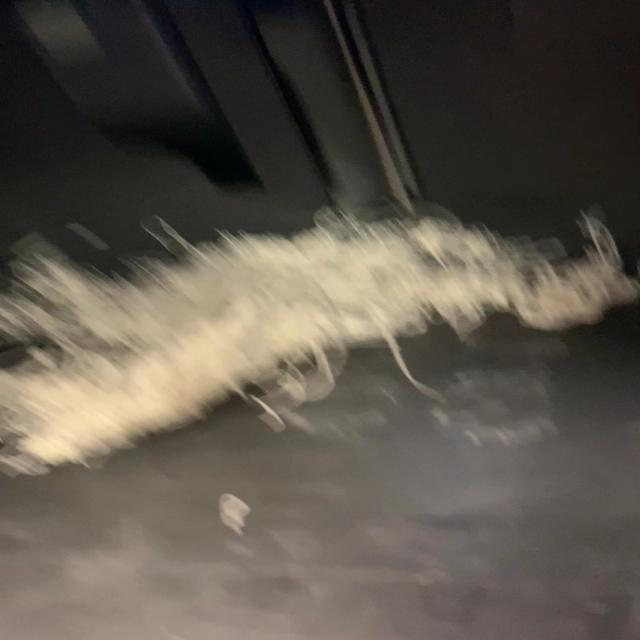spaghetti: (4, 202, 635, 478)
